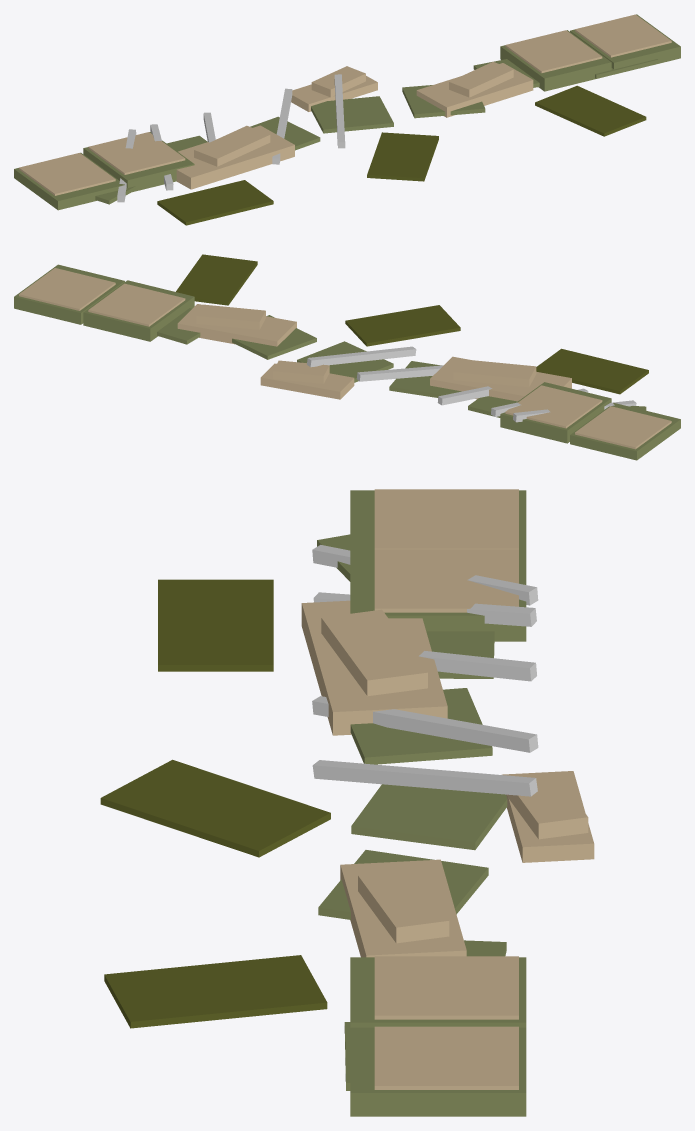
Rendered from SM_MuroHesco_v4_Red_e3_Brecha_LOD1.fbx.
The picture shows the model from 3 angles, top to bottom: view 1: azimuth 30°, elevation 25°; view 2: azimuth 150°, elevation 25°; view 3: azimuth 270°, elevation 25°; orthographic projection. The views are drawn at different scales.
Visible parts, largest first — view 1: SM_bloques.muro_hesco_estados_v19_LOD1; view 2: SM_bloques.muro_hesco_estados_v19_LOD1; view 3: SM_bloques.muro_hesco_estados_v19_LOD1.
Part boxes in pixels (x1,y1,x2,y2): SM_bloques.muro_hesco_estados_v19_LOD1: (14,14,680,225); SM_bloques.muro_hesco_estados_v19_LOD1: (14,254,680,460); SM_bloques.muro_hesco_estados_v19_LOD1: (100,489,594,1116).
Size of the model in its own units: 9.96 by 0.351 by 3.42.
